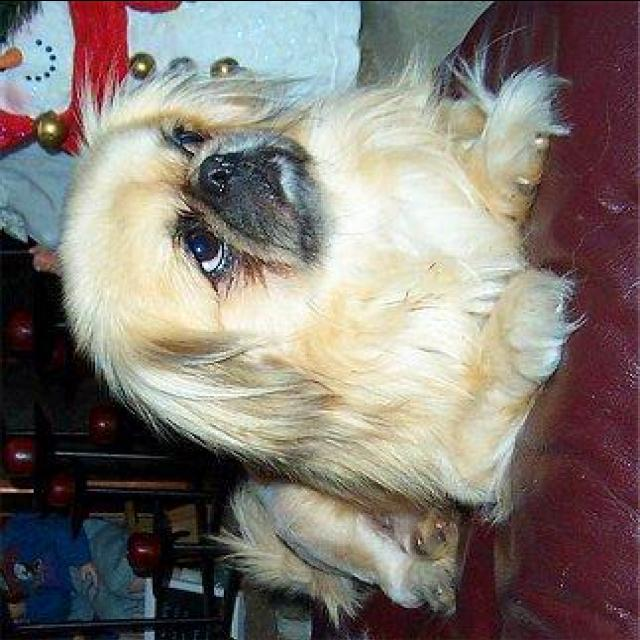pekinese: (54, 62, 572, 610)
